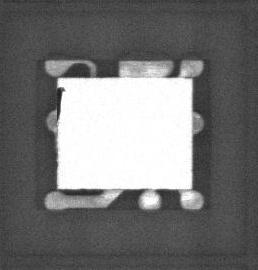DIE_BROKEN: (54, 85, 65, 122)
